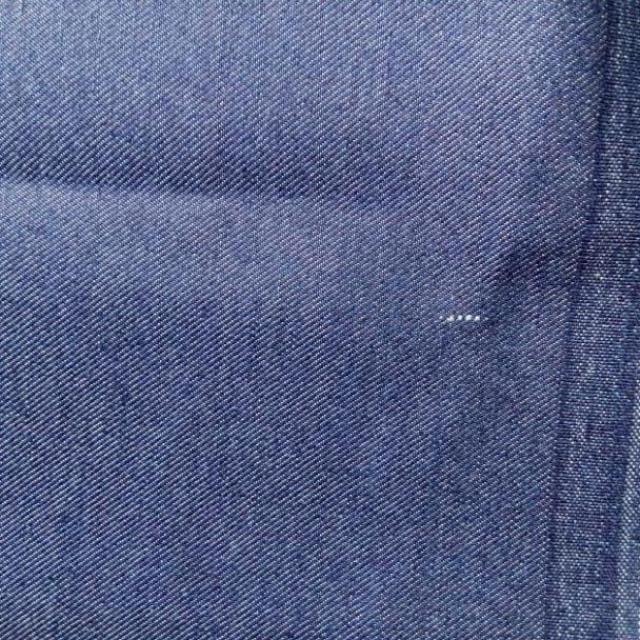Knot: (440, 314, 489, 326)
Line: (535, 4, 623, 640)
